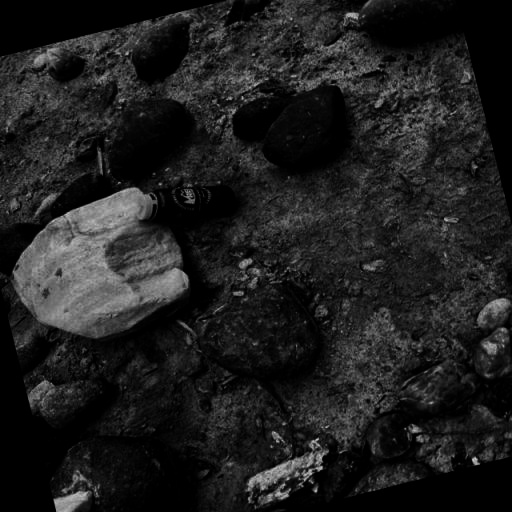bottle: (130, 170, 239, 238)
